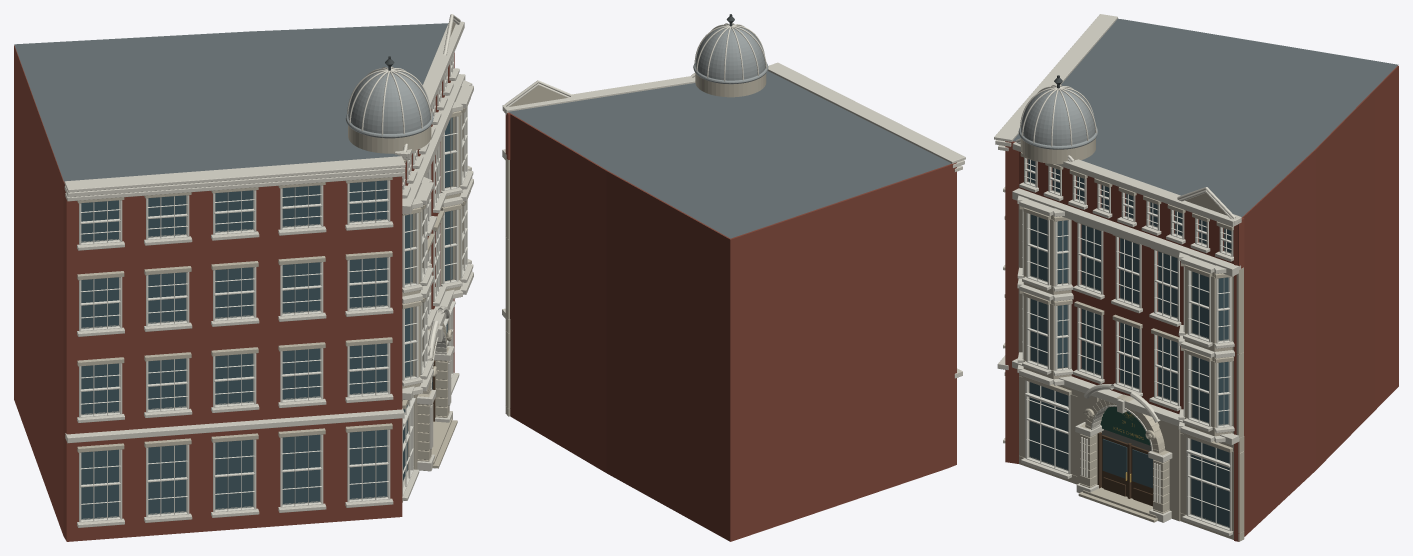
The model's file is kgs-exterior-36b3899ccbb6.glb.
3 views of the same model, side by side, from view 1: azimuth 30°, elevation 25°; view 2: azimuth 150°, elevation 25°; view 3: azimuth 270°, elevation 25° (orthographic). The views are drawn at different scales.
Visible parts, largest first — view 1: KGS.001; view 2: KGS.001; view 3: KGS.001.
Boxes of the visible parts, box(x1,y1,x2,y2) form: KGS.001: box(14, 14, 473, 541); KGS.001: box(502, 14, 965, 541); KGS.001: box(994, 14, 1398, 541).
Size of the model in its own units: 21.13 by 18.66 by 17.38.
